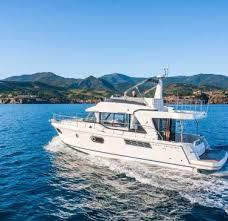Ship: (52, 78, 228, 174)
